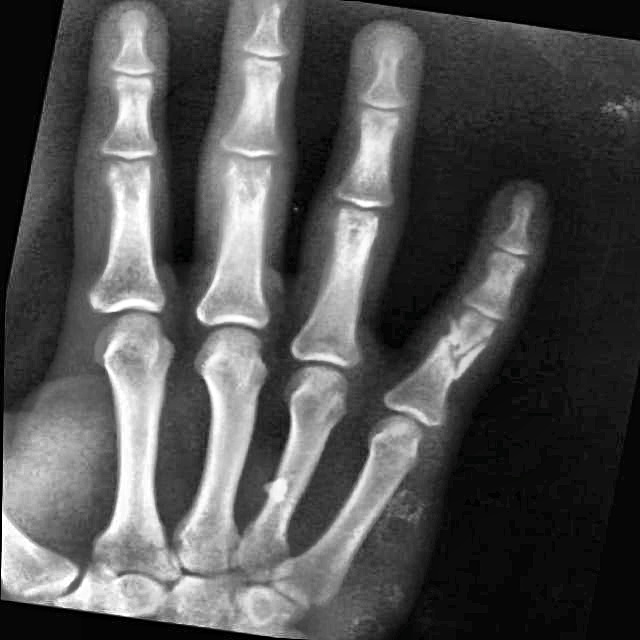Comminuted: (424, 298, 513, 382)
